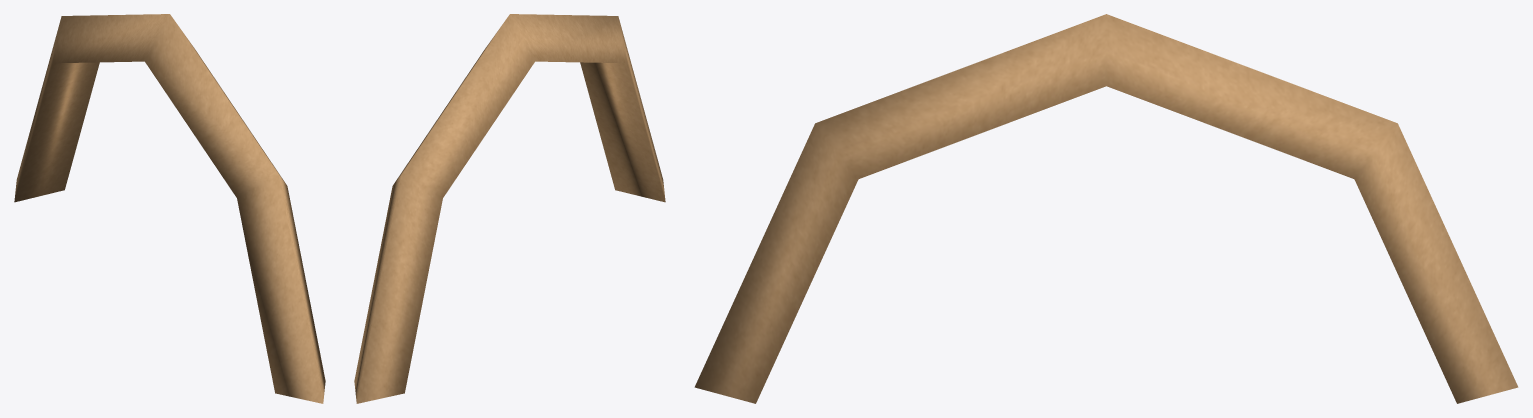
File: low_fence.fbx
The picture shows the model from 3 angles, left to right: view 1: azimuth 30°, elevation 25°; view 2: azimuth 150°, elevation 25°; view 3: azimuth 270°, elevation 25°; orthographic projection. The views are drawn at different scales.
Parts seen in each view (by area): view 1: low_fence; view 2: low_fence; view 3: low_fence.
Part boxes in pixels (x1,y1,x2,y2): low_fence: [14, 14, 325, 403]; low_fence: [354, 14, 665, 403]; low_fence: [694, 14, 1518, 403].
Size of the model in its own units: 0.0939 by 0.4935 by 0.9871.
Materials: 1 (1 with a texture image).
